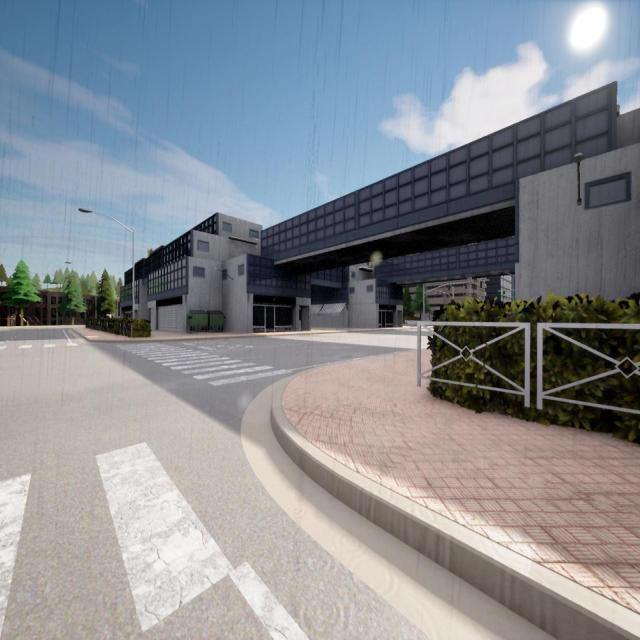traffic_light: (480, 281, 482, 288), (503, 291, 505, 297), (465, 283, 467, 289), (448, 285, 450, 290), (437, 292, 439, 296), (446, 294, 447, 298), (442, 292, 442, 295)
